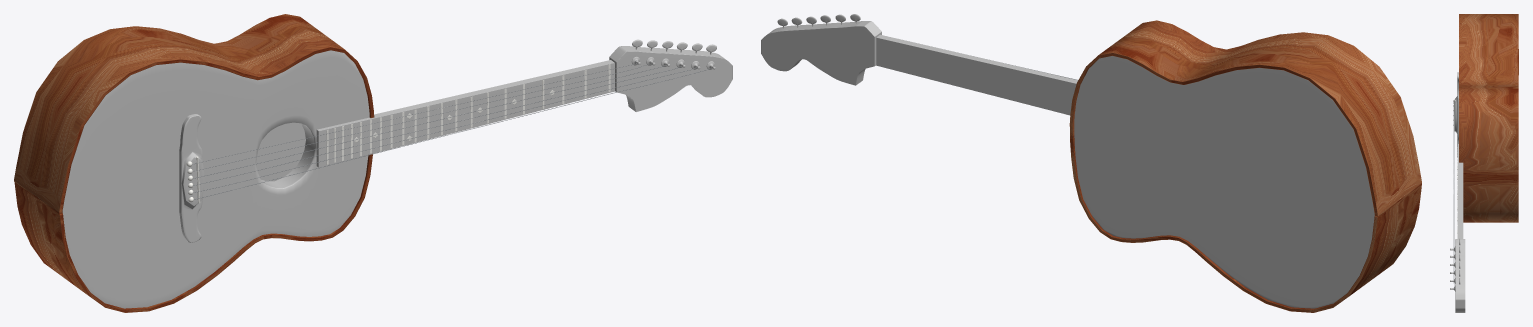
The model's file is guitar.fbx.
3 renders of one model, left to right at view 1: azimuth 30°, elevation 25°; view 2: azimuth 150°, elevation 25°; view 3: azimuth 270°, elevation 25°, orthographic. The views are drawn at different scales.
Parts seen in each view (by area): view 1: pCube45, pCube48, pCube3, pCube4, pCube2, pCube46, pCube44, pCube43, pCube42, pCube41, pCube36; view 2: pCube46, pCube48, pCube3, pCube4; view 3: pCube48, pCube4, pCube3, pCube2, pCube36, pCube34.
Boxes of the visible parts, x1,y1,x2,y2 form: pCube45: (62,50,369,308); pCube48: (14,14,374,312); pCube3: (316,60,614,167); pCube4: (609,46,732,111); pCube2: (179,114,204,242); pCube46: (256,122,305,181); pCube44: (194,68,711,199); pCube43: (193,67,696,192); pCube42: (193,66,681,185); pCube41: (192,65,666,178); pCube36: (192,60,651,171); pCube46: (1074,56,1374,308); pCube48: (1069,20,1421,312); pCube3: (876,34,1077,115); pCube4: (761,21,881,85); pCube48: (1459,14,1518,222); pCube4: (1455,239,1465,312); pCube3: (1458,144,1463,238); pCube2: (1455,72,1458,157); pCube36: (1453,106,1453,258); pCube34: (1453,102,1454,250).
Size of the model in its own units: 7.46 by 2.63 by 1.
